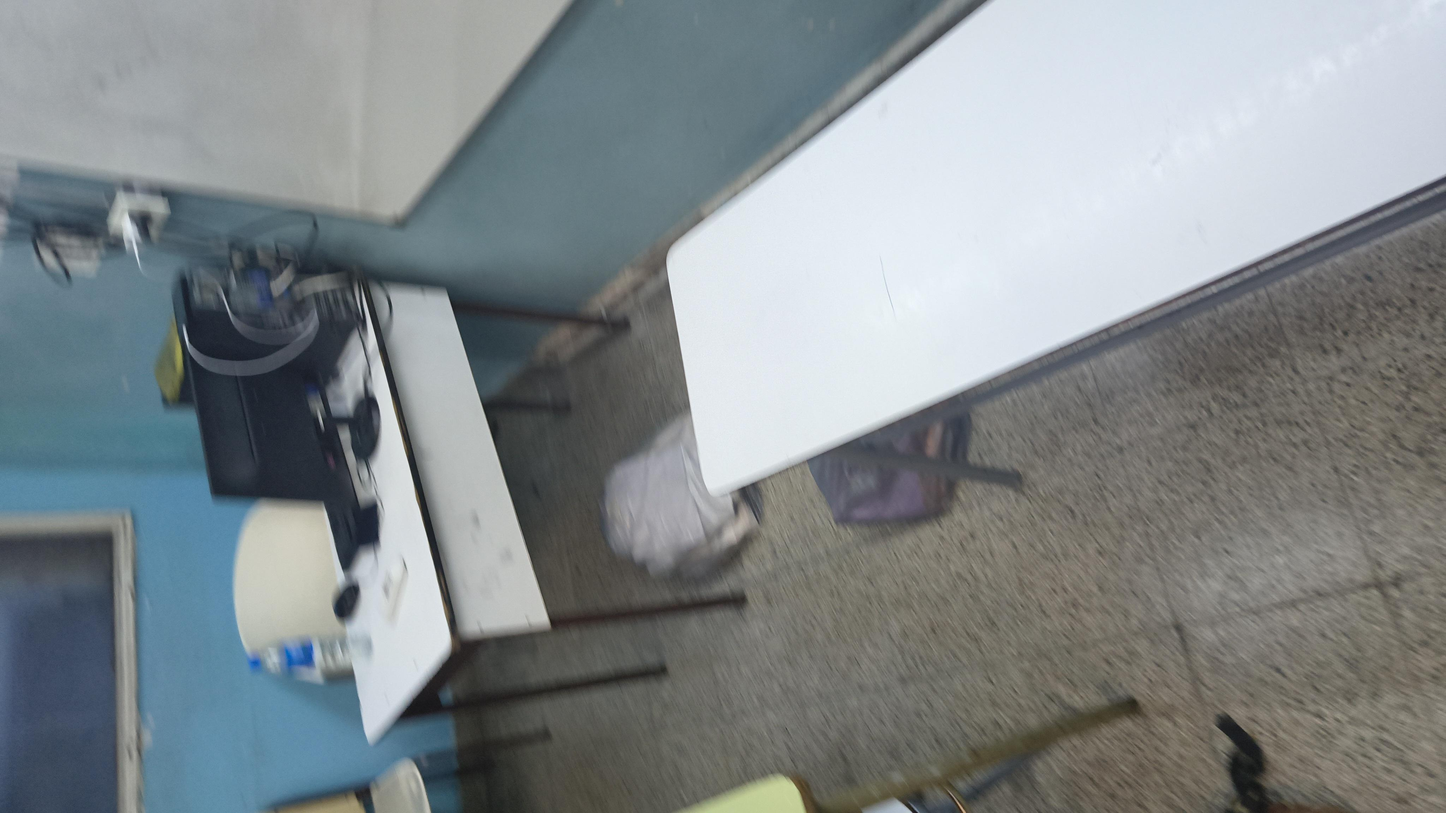Garbage: (364, 318, 741, 445), (452, 441, 785, 560)
